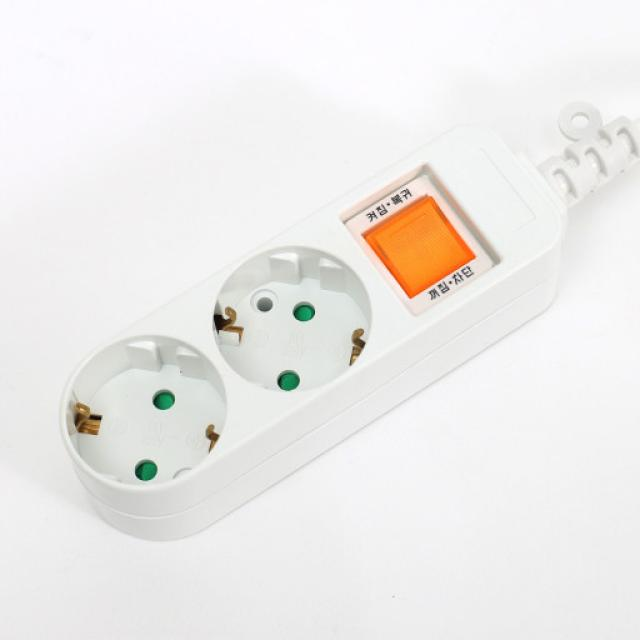typeb: (30, 111, 608, 614)
